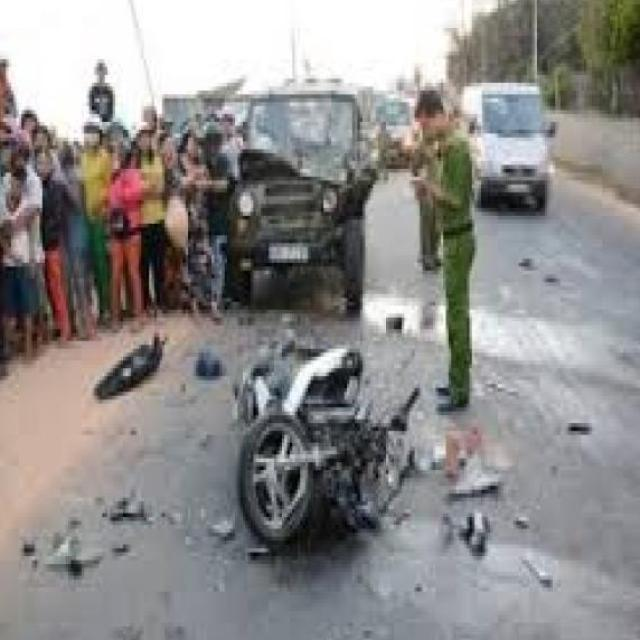accident: (225, 296, 437, 592), (235, 78, 375, 305)
